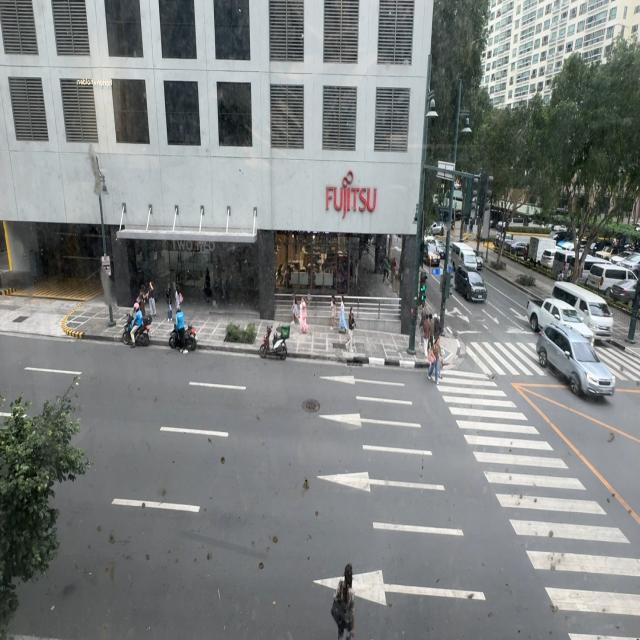crossing: (428, 334, 443, 385)
pedestrain: (422, 312, 432, 358), (299, 296, 308, 334), (419, 306, 427, 346), (148, 280, 156, 320), (166, 284, 173, 323), (330, 295, 338, 329), (292, 294, 300, 327), (433, 313, 441, 346)
